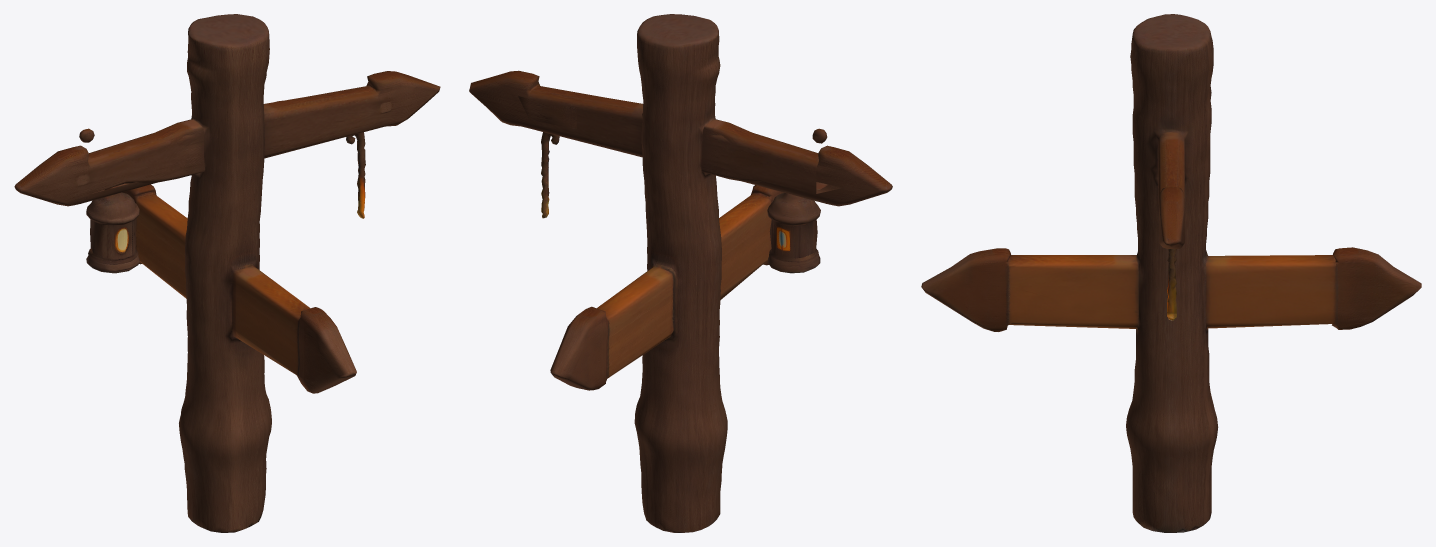
File: signpost_v2.glb
3 views of the same model, side by side, from view 1: azimuth 30°, elevation 25°; view 2: azimuth 150°, elevation 25°; view 3: azimuth 270°, elevation 25° (orthographic).
Bounding box in the file's own units: 1.72 × 1.9 × 1.76.
Materials: 1 (1 with a texture image).
